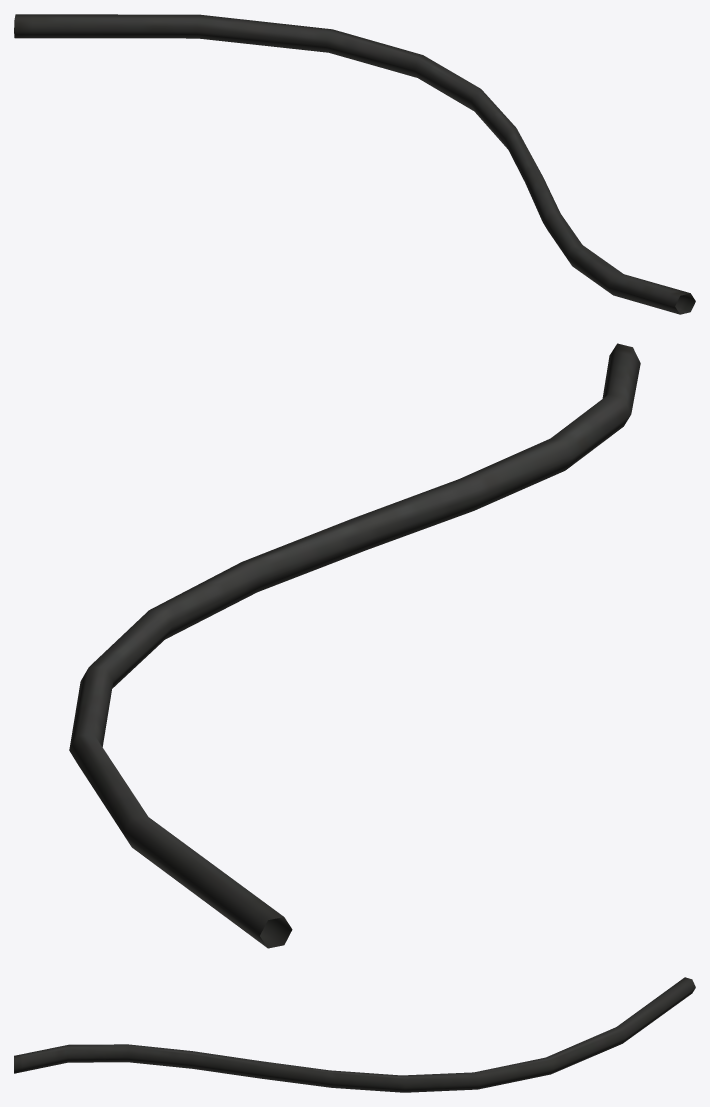
The model's file is Wire 2.fbx.
3 views of the same model, one above another, from view 1: azimuth 30°, elevation 25°; view 2: azimuth 150°, elevation 25°; view 3: azimuth 270°, elevation 25° (orthographic). The views are drawn at different scales.
Parts seen in each view (by area): view 1: Wires 2; view 2: Wires 2; view 3: Wires 2.
Part boxes in pixels (box(x1,y1,x2,y2)): Wires 2: box(14, 14, 695, 314); Wires 2: box(69, 343, 640, 948); Wires 2: box(14, 977, 695, 1092).
Bounding box in the file's own units: 181 × 11.45 × 500.
